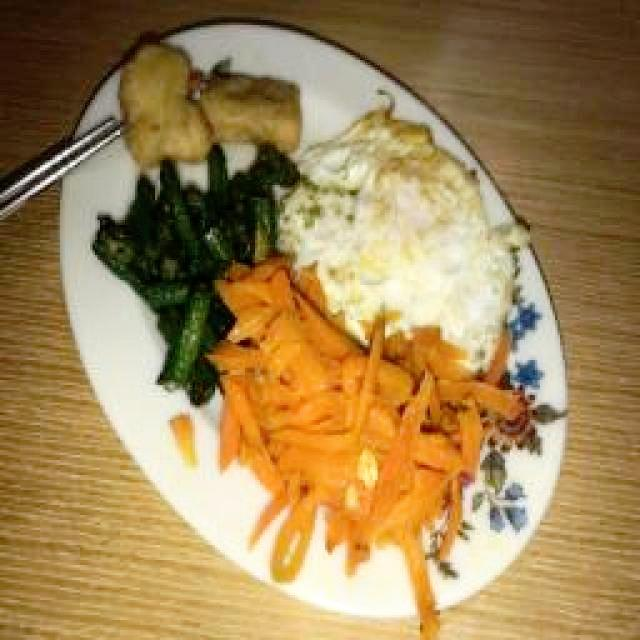carrot_eggs: (210, 256, 532, 622)
chicken_nuggets: (125, 38, 215, 162), (201, 68, 301, 146)
fried_eggs: (281, 111, 516, 373)
water_spinach: (96, 156, 301, 396)
